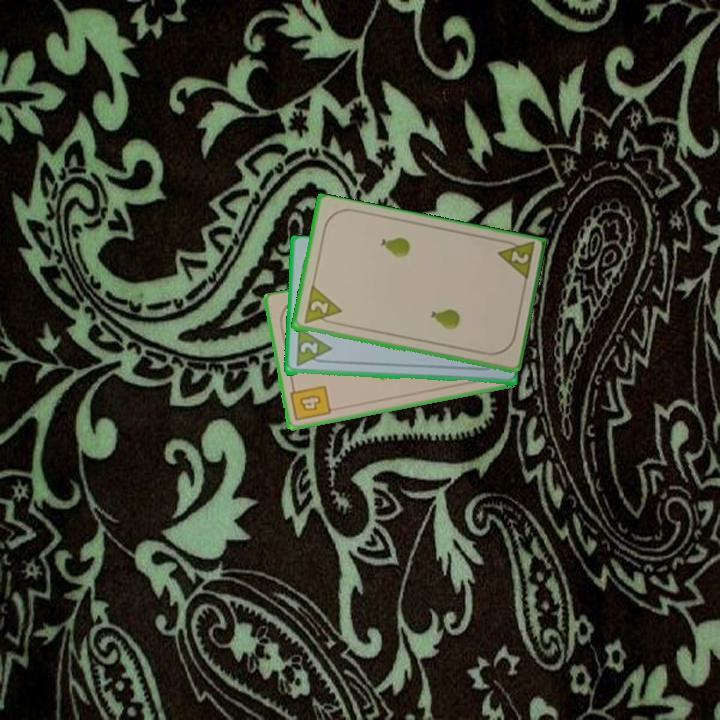2p: (493, 236, 537, 285), (300, 284, 344, 329), (292, 326, 334, 370)
4b: (287, 381, 334, 424)
